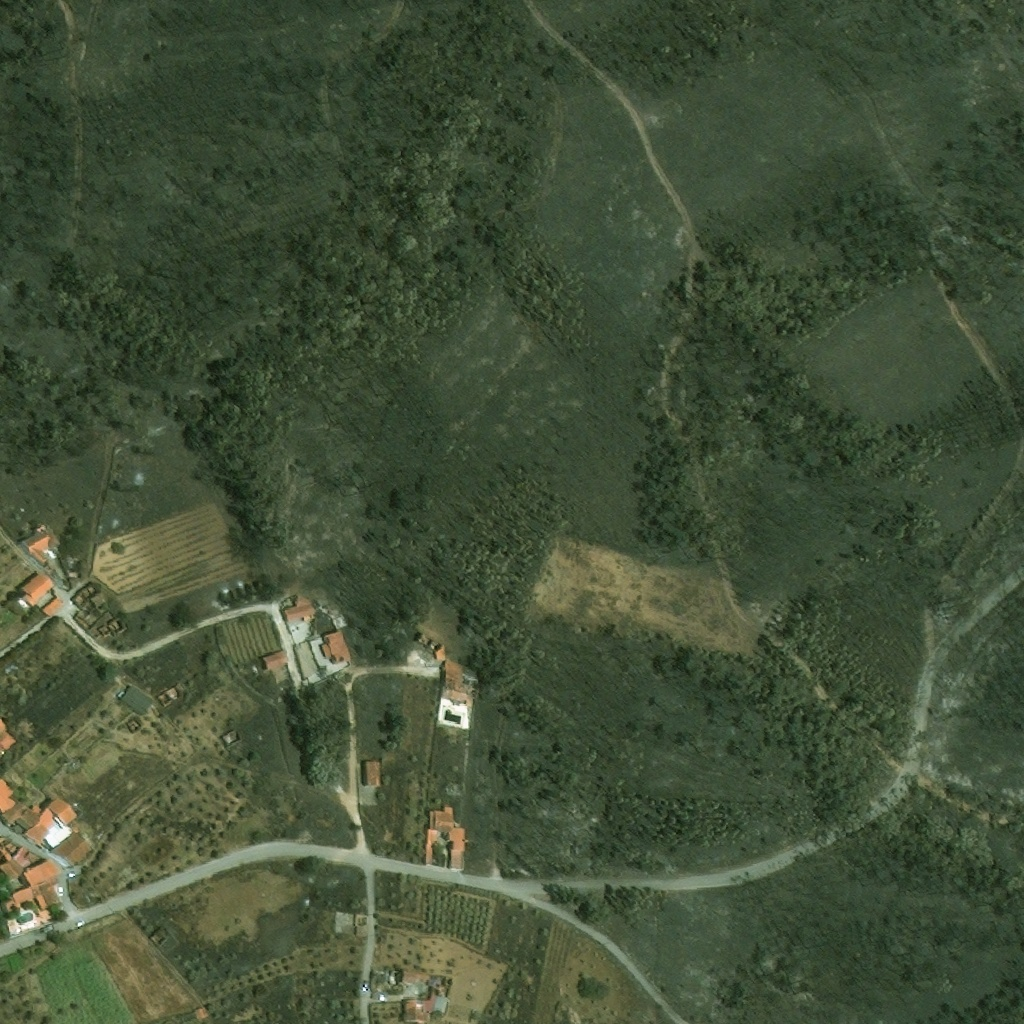0 no-damage: (23, 795, 77, 848), (423, 805, 463, 870), (440, 659, 480, 705), (48, 829, 93, 867), (20, 525, 63, 564), (19, 570, 55, 606), (320, 628, 356, 664), (119, 684, 155, 717), (23, 858, 64, 886), (1, 886, 36, 915), (33, 875, 61, 909), (283, 595, 317, 623), (13, 805, 43, 831), (260, 648, 290, 672), (0, 716, 17, 757), (1, 801, 28, 826), (0, 778, 16, 813), (361, 759, 380, 787), (41, 595, 64, 617), (40, 558, 56, 573)
2 major-damage: (401, 996, 434, 1021), (12, 843, 43, 868)
3 destroyed: (390, 967, 456, 1013), (71, 578, 115, 612), (0, 842, 24, 882), (72, 610, 102, 640), (416, 633, 445, 661), (157, 681, 187, 706), (98, 615, 127, 637), (62, 564, 84, 589), (220, 728, 240, 747), (125, 715, 143, 734), (353, 914, 368, 936)
